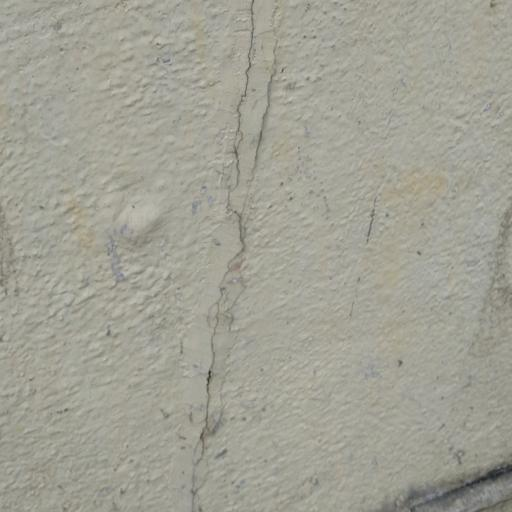minor_crack: (155, 5, 298, 512)
